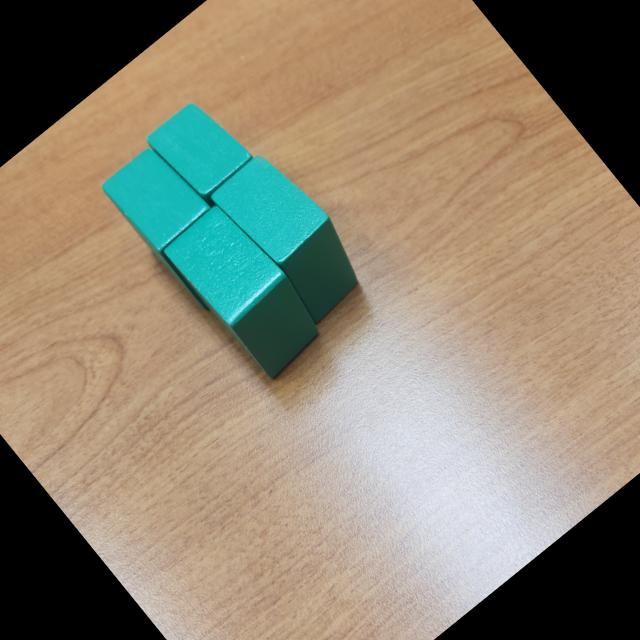green: (157, 197, 333, 386), (208, 144, 378, 327), (99, 137, 264, 316), (144, 92, 262, 213)
